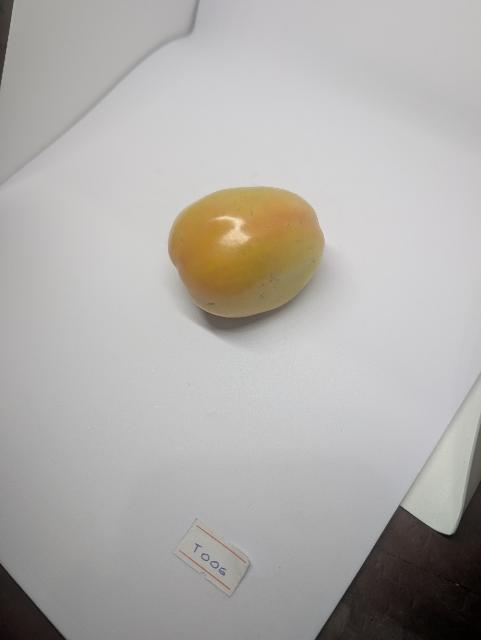turning: (168, 187, 330, 321)
